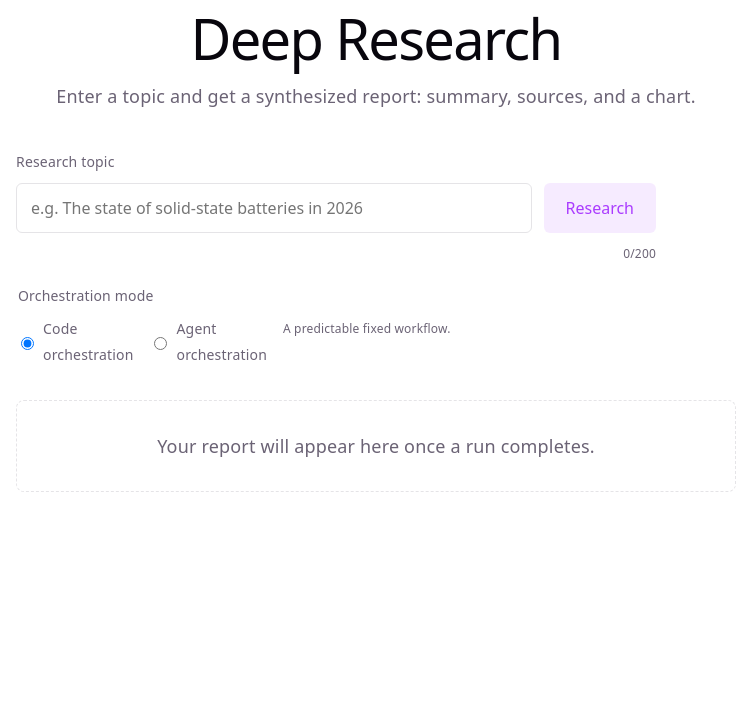
Test case: clarification flow › explicitly retries a failed direct research request without clarification
The image size is (753, 713).
In the field labelled "Research topic": [274, 208] box [16,183,532,233], type "topic"
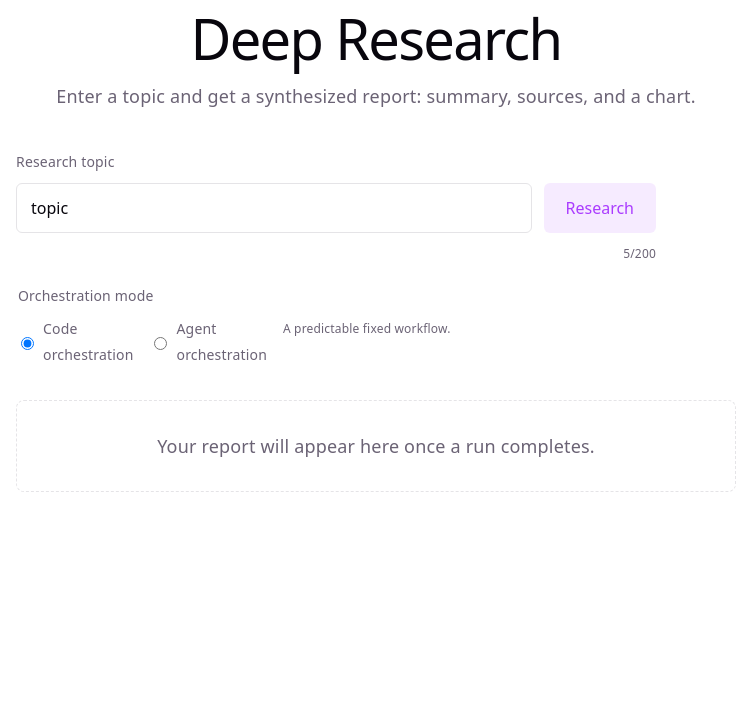
Click the button "Research": [600, 208] box [544,183,656,233]
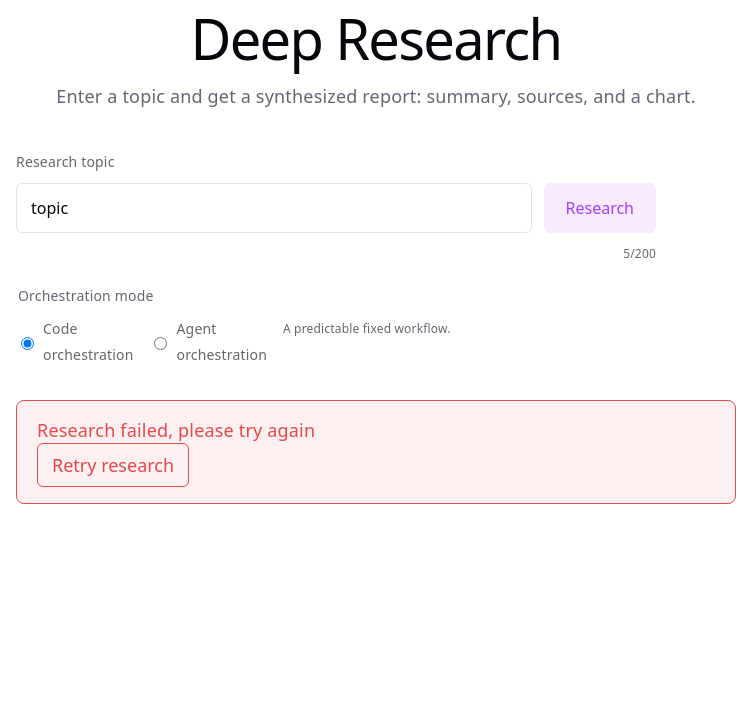
Expected: the message shows "Research failed, please try again", [37,418,315,442]
Click the button "Retry research": [113, 465] box [37,443,189,487]
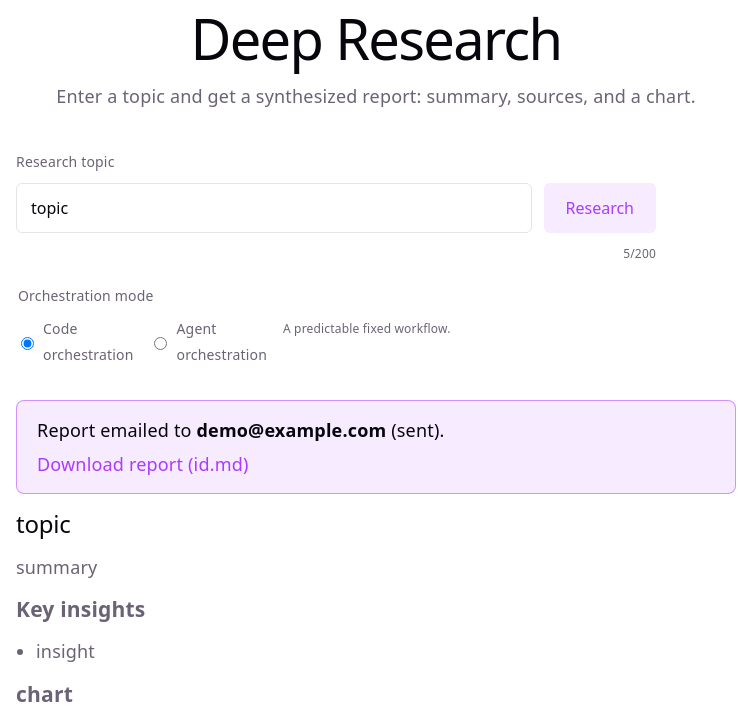
Expected: the text "summary" is shown, [16,555,97,579]
